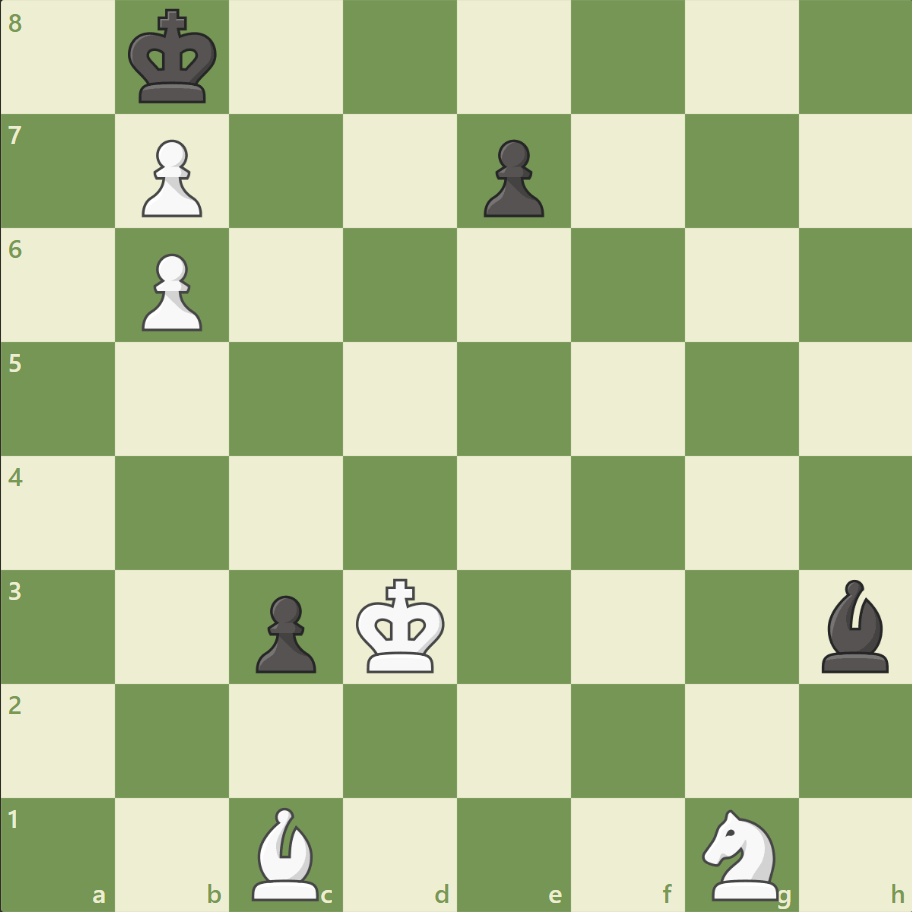B: (244, 801, 328, 904)
K: (351, 571, 451, 679)
N: (692, 802, 789, 904)
P: (133, 132, 208, 223), (133, 246, 208, 337)
b: (812, 574, 896, 676)
k: (124, 4, 224, 112)
p: (474, 132, 549, 223), (247, 586, 322, 677)
